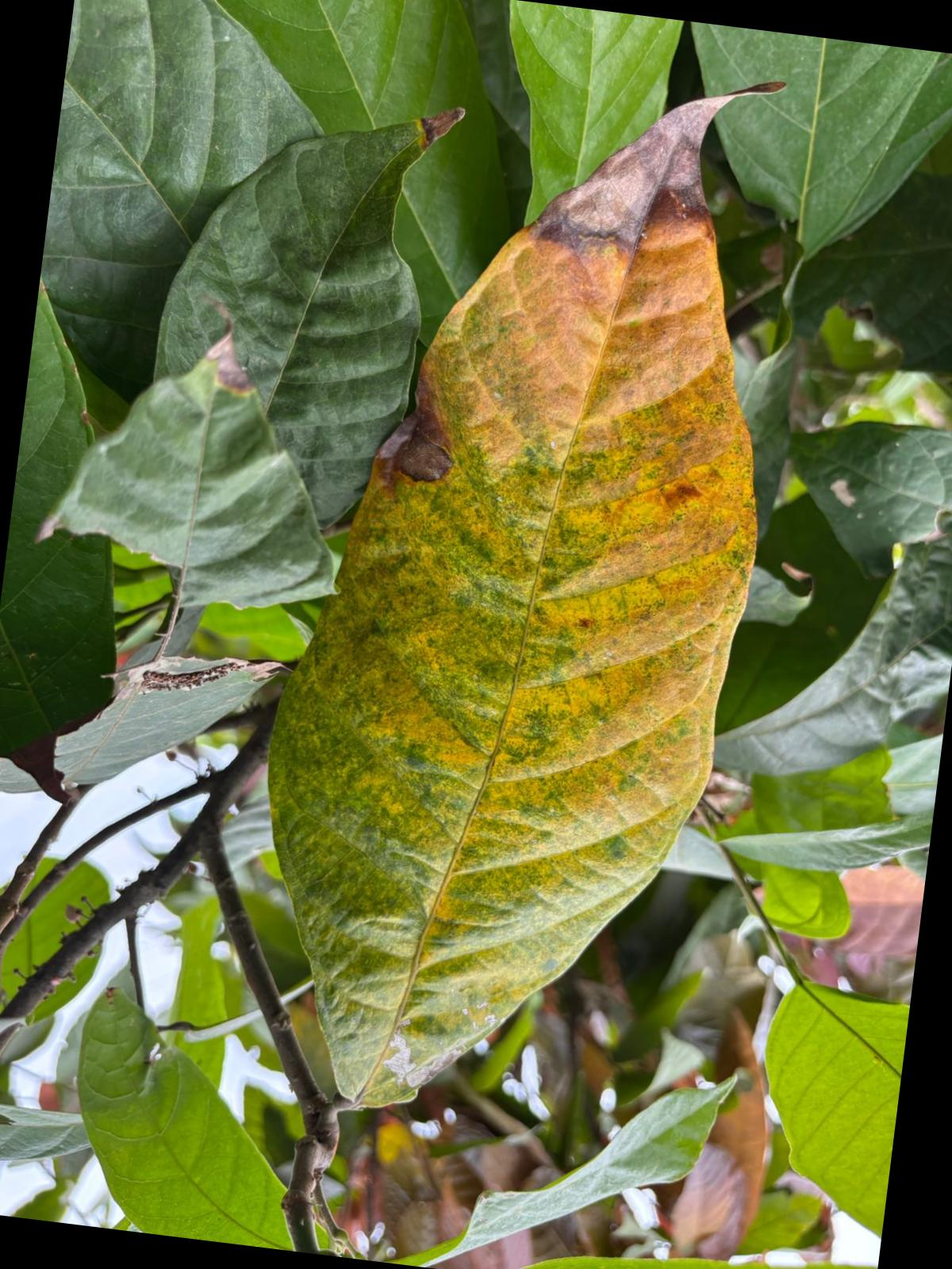Fosforo: (270, 95, 757, 1106)
